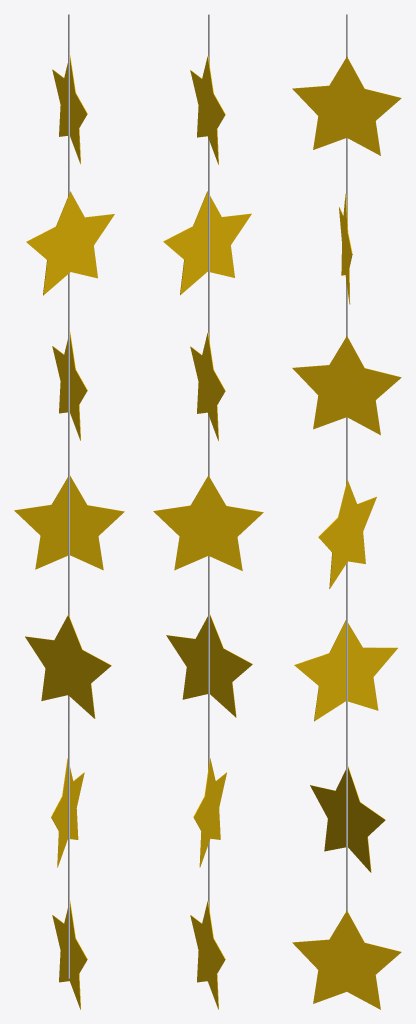
The model's file is PartyHangings01C_2.FBX.
3 views of the same model, side by side, from view 1: azimuth 30°, elevation 25°; view 2: azimuth 210°, elevation 25°; view 3: azimuth 270°, elevation 25° (orthographic).
Parts seen in each view (by area): view 1: PartyHangings01C_2; view 2: PartyHangings01C_2; view 3: PartyHangings01C_2.
Boxes of the visible parts, left/top/right/bottom form: PartyHangings01C_2: left=14, top=14, right=124, bottom=1009; PartyHangings01C_2: left=153, top=14, right=263, bottom=1009; PartyHangings01C_2: left=292, top=14, right=401, bottom=1009.
Size of what is drawn, in the model's own units: 0.0836 by 0.822 by 0.0825.
